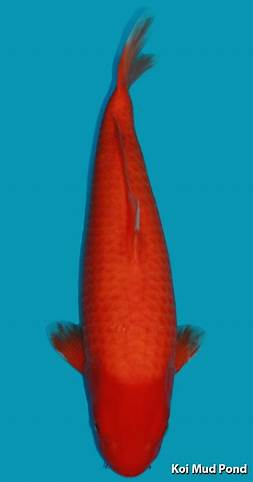red: (46, 9, 207, 478)
